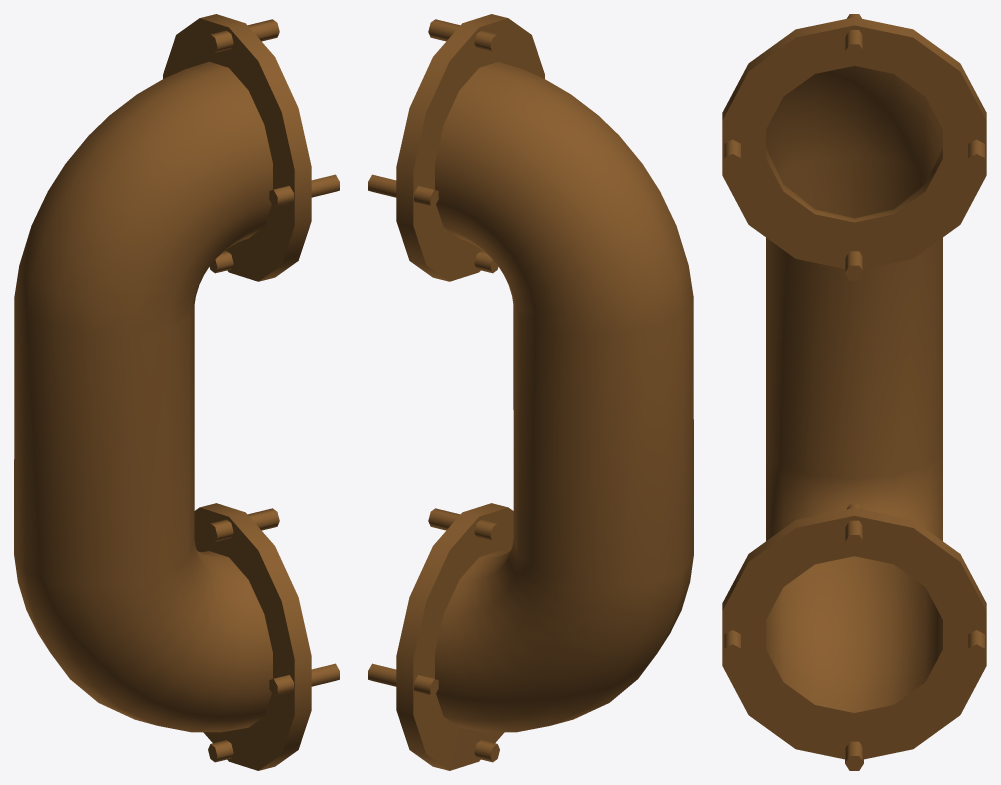
File: ULY_PROP_tuyau_petit_u.fbx
3 renders of one model, left to right at view 1: azimuth 30°, elevation 25°; view 2: azimuth 150°, elevation 25°; view 3: azimuth 270°, elevation 25°, orthographic.
Visible parts, largest first — view 1: ULY_PROP_tuyau_petit_u; view 2: ULY_PROP_tuyau_petit_u; view 3: ULY_PROP_tuyau_petit_u.
Part boxes in pixels (left/top/right/bottom): ULY_PROP_tuyau_petit_u: left=14, top=14, right=339, bottom=770; ULY_PROP_tuyau_petit_u: left=368, top=14, right=693, bottom=770; ULY_PROP_tuyau_petit_u: left=722, top=14, right=986, bottom=770.
Size of the model in its own units: 31.72 by 89.36 by 29.07.
